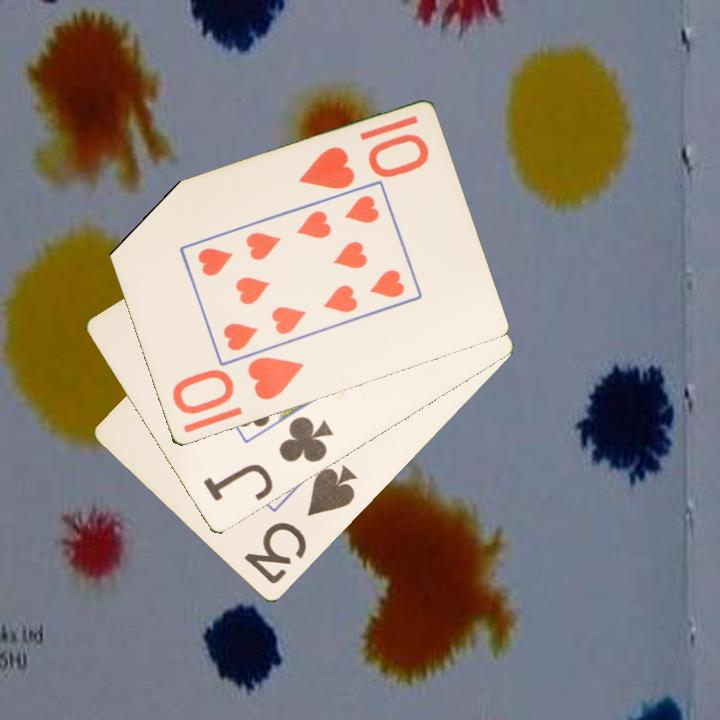10h: (168, 353, 307, 418), (294, 130, 432, 193)
3s: (240, 461, 360, 588)
Jc: (199, 413, 336, 505)
